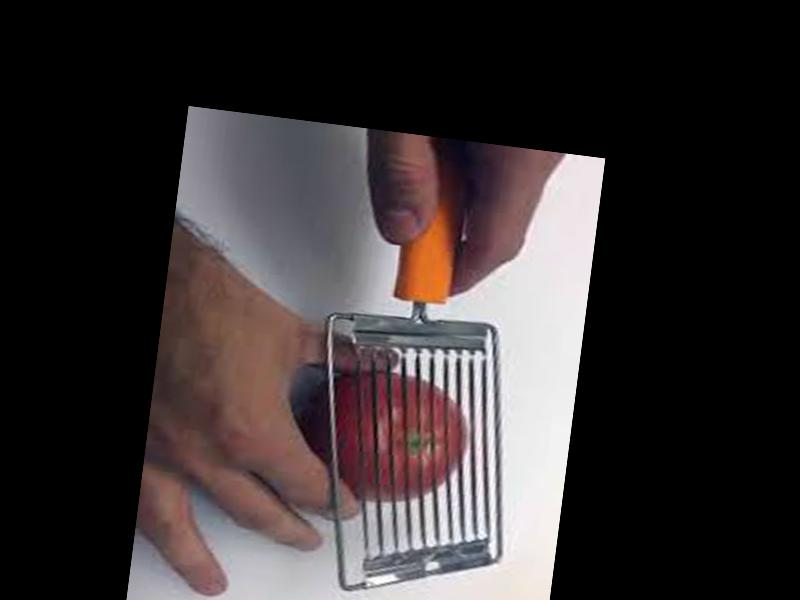Tomato: (298, 360, 473, 508)
